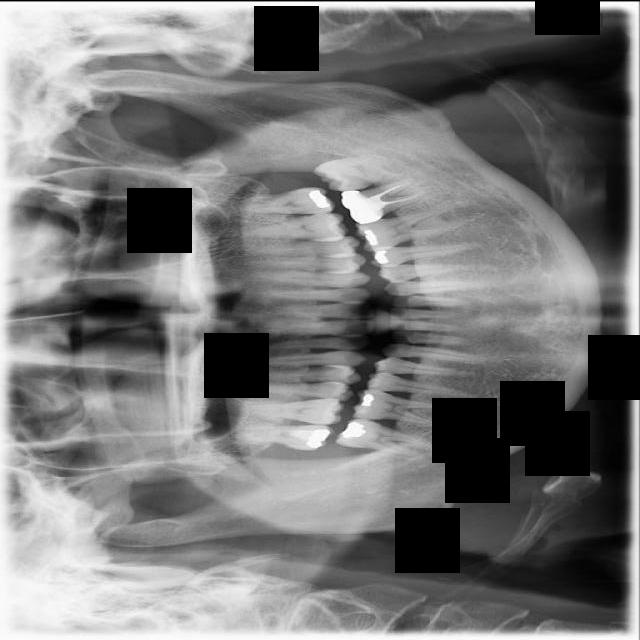52: (337, 178, 386, 231), (354, 209, 401, 255), (335, 412, 381, 452), (350, 385, 395, 424), (292, 181, 337, 219), (287, 423, 337, 451), (372, 245, 403, 267)
73: (359, 172, 434, 219), (561, 20, 574, 28)
BioHorizons Implant: (236, 424, 334, 451), (242, 187, 335, 214)
Biomet 3i Implant: (312, 148, 399, 197)
Blue Sky Bio Implant: (340, 173, 436, 226), (335, 414, 435, 459)
